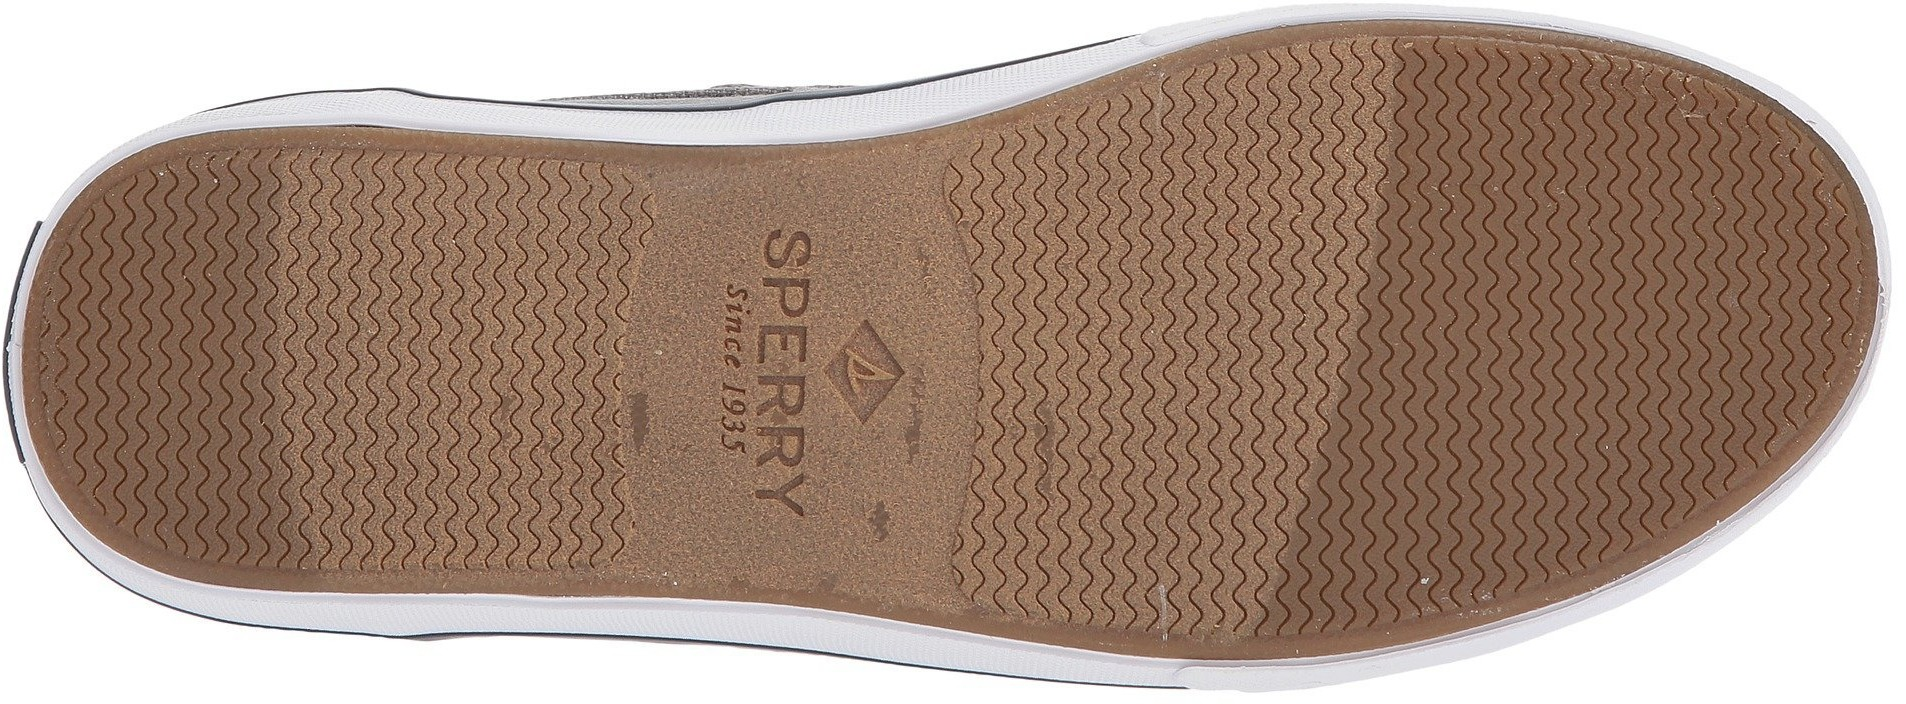chevron: (1229, 306, 1488, 591), (1195, 71, 1453, 304), (1462, 100, 1726, 319), (281, 164, 518, 381), (1495, 321, 1716, 534), (994, 367, 1220, 574), (979, 147, 1188, 357), (96, 227, 274, 417), (326, 388, 498, 581), (158, 426, 311, 568), (528, 181, 647, 303), (514, 405, 637, 520)
text: (697, 221, 844, 390), (694, 390, 831, 516)
